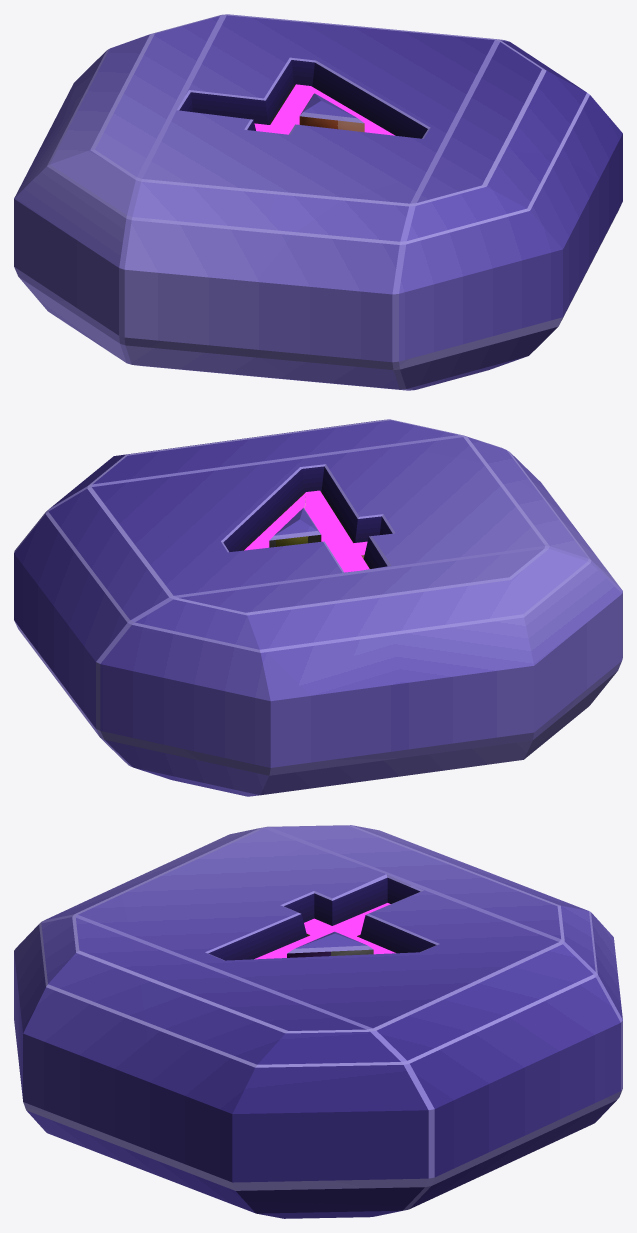
Rendered from Thermal Haul_Item_Crystal4.glb.
3 views of the same model, one above another, from view 1: azimuth 30°, elevation 25°; view 2: azimuth 150°, elevation 25°; view 3: azimuth 270°, elevation 25° (orthographic). The views are drawn at different scales.
Parts seen in each view (by area): view 1: Gem4; view 2: Gem4; view 3: Gem4.
Part boxes in pixels (x1,y1,x2,y2): Gem4: (14, 14, 622, 390); Gem4: (14, 419, 622, 796); Gem4: (14, 825, 622, 1218).
Bounding box in the file's own units: 0.8661 × 0.2956 × 0.8656.
2 materials, 1 textured.
